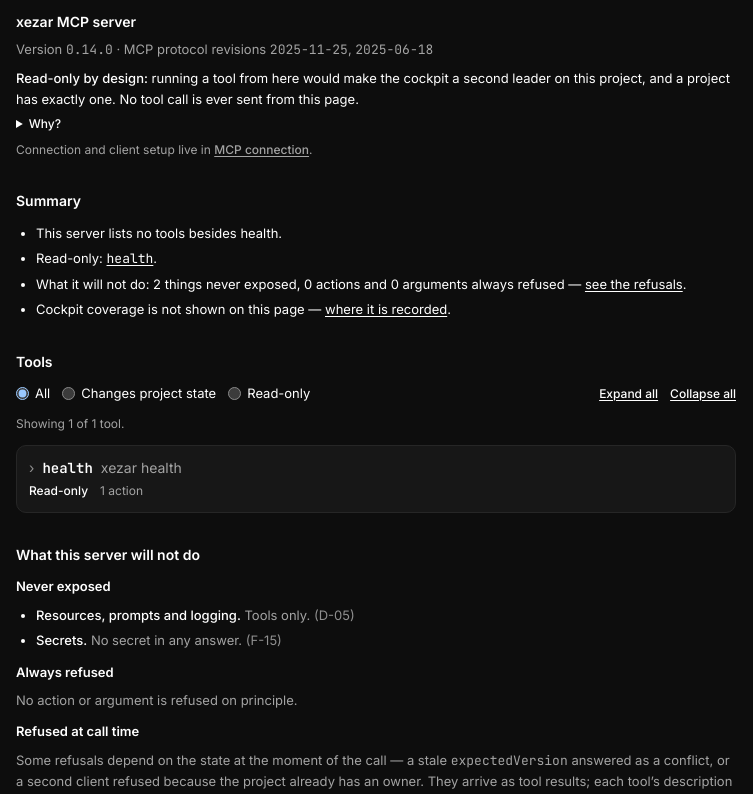
Test case: MCP API — finding a tool › says so when a filter matches nothing, and when only health is listed
Check: the 1st list shows "This server lists no tools besides health.", box [36,225,282,241]
Click the radio button labelled "Changes project state" at point(69, 394), box [62,387,75,400]
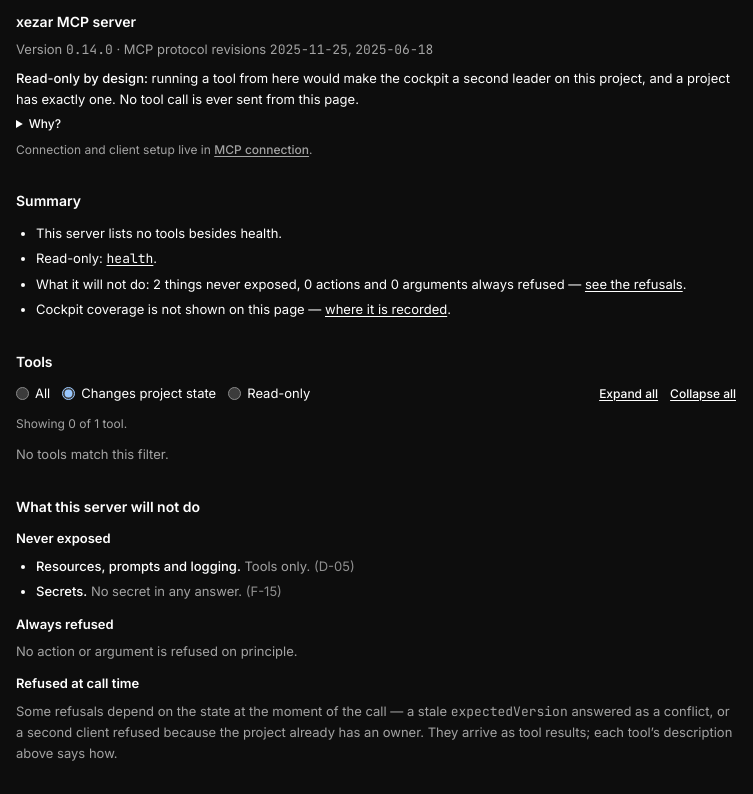
Check: the text "No tools match this filter." is shown, box [16,446,169,462]
